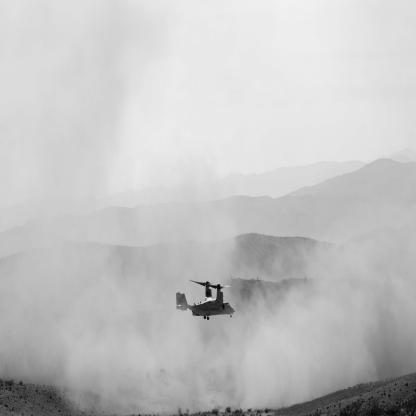V22: (177, 280, 238, 321)
